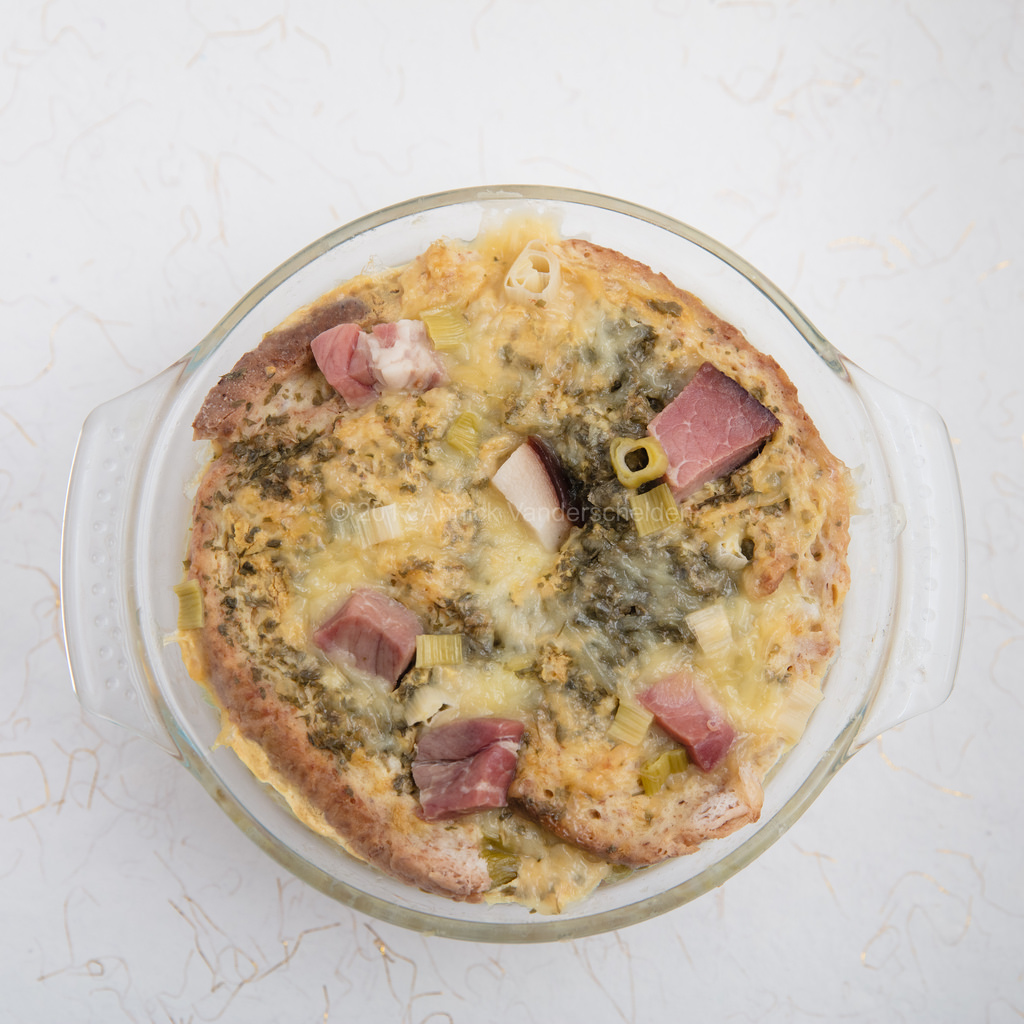slice of bread: (399, 266, 740, 348)
